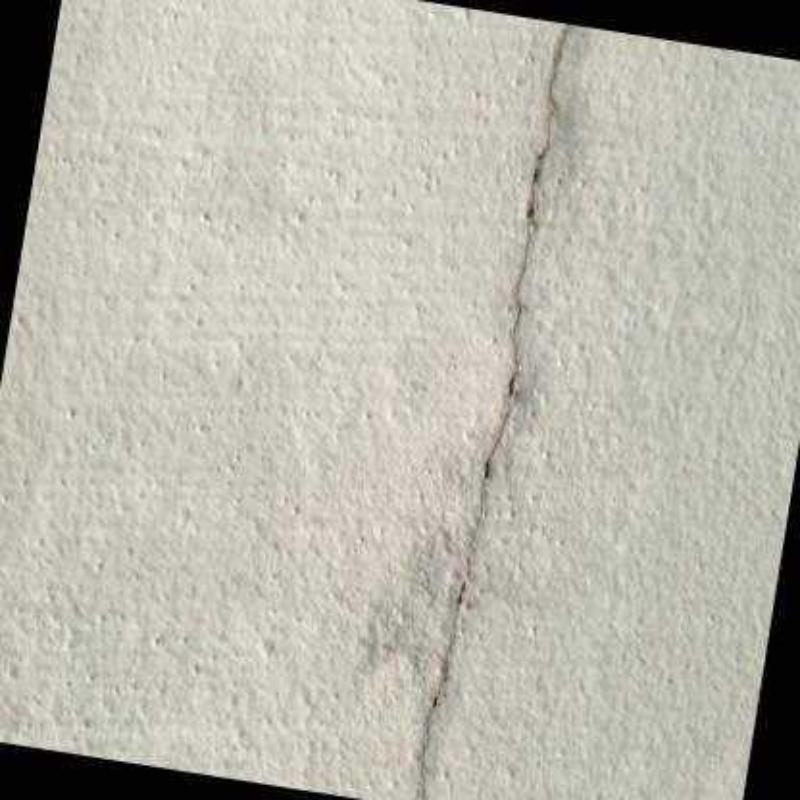pothole: (419, 22, 570, 798)
